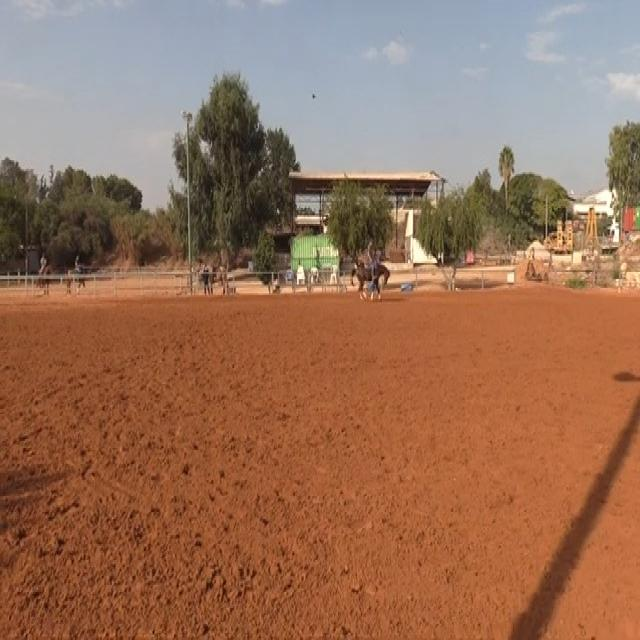horse: (350, 254, 391, 300)
